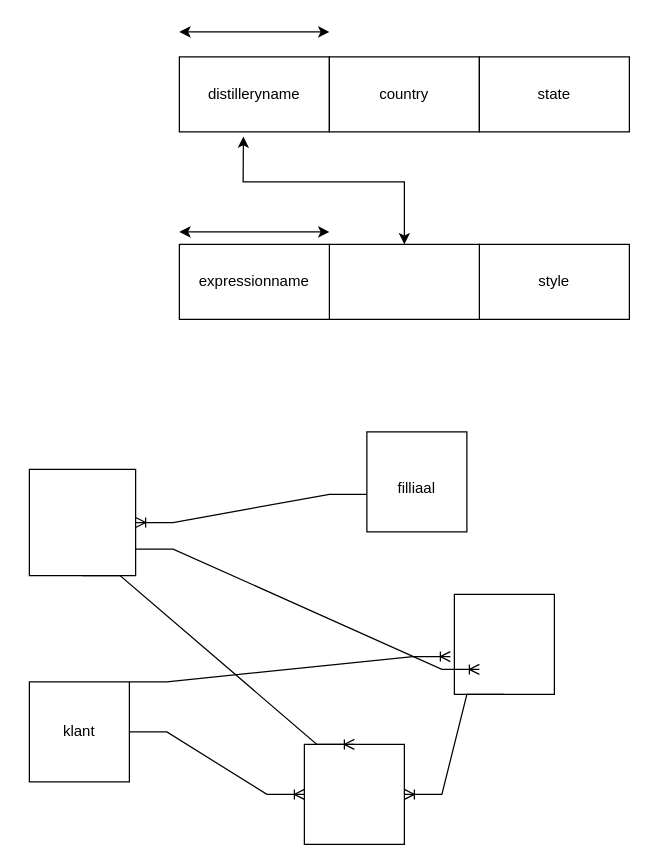
This 651x866 diagram has some shape labels left out. The shapes that lost their labels are listed below. From the top down, each one's centre as x and y in pixels, then its label:
At (x=403, y=281): "distillery".
At (x=82, y=522): "vertegewoordiger".
At (x=503, y=643): "contact".
At (x=353, y=793): "bezoek".
